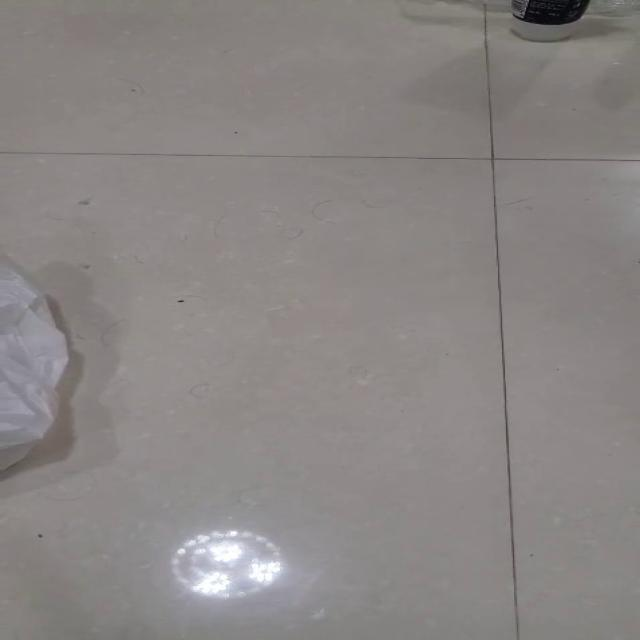plastic: (0, 253, 70, 471)
